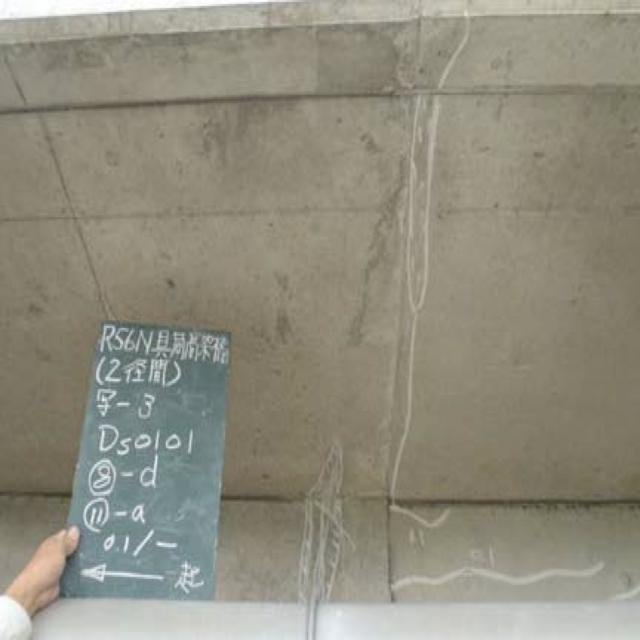freelime: (369, 0, 440, 309), (280, 450, 349, 640)
